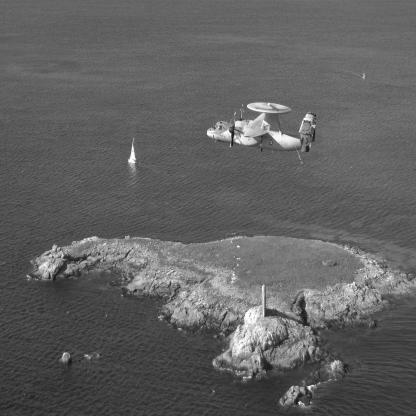E2: (208, 103, 317, 166)
